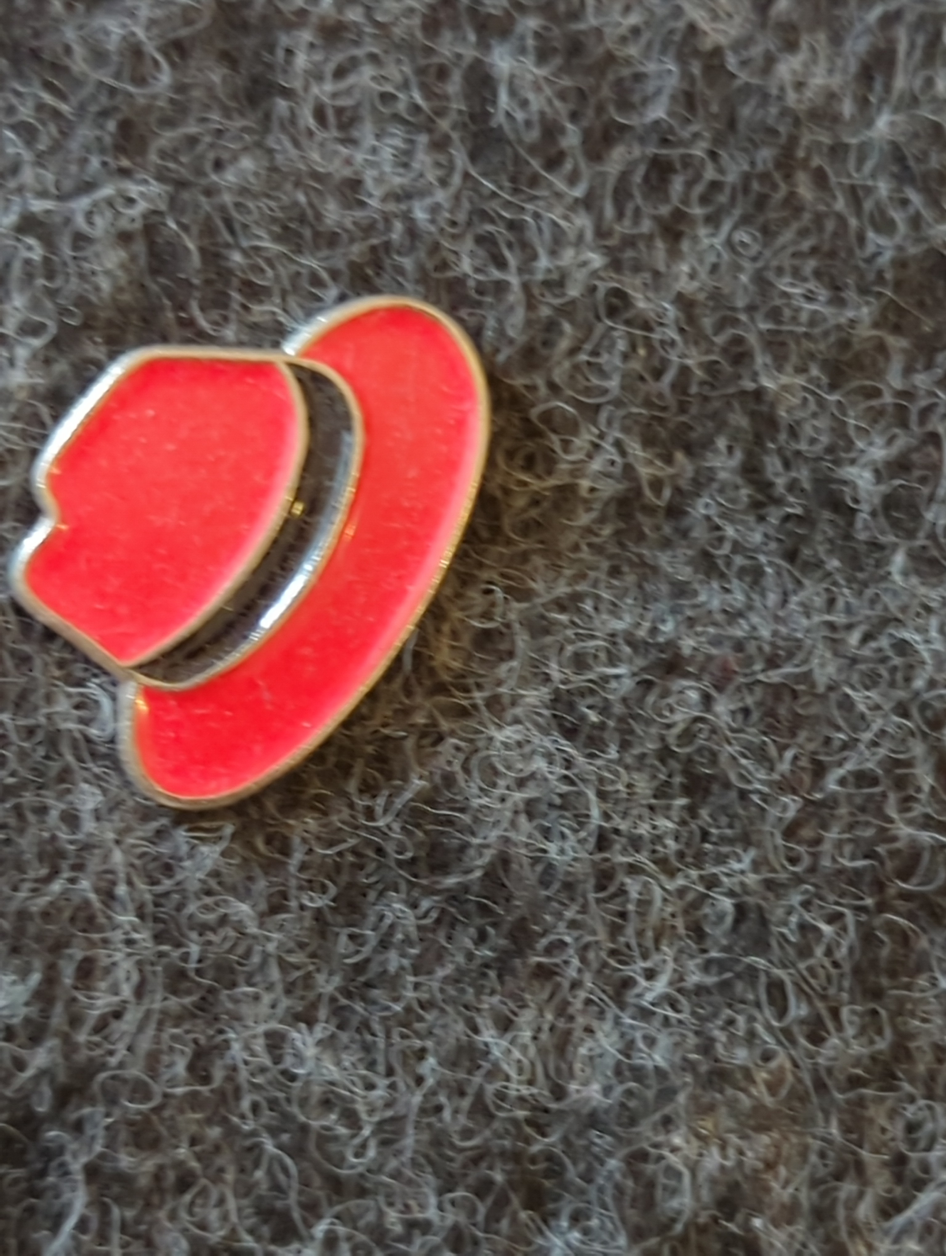Red-Hat: (0, 195, 561, 938)
